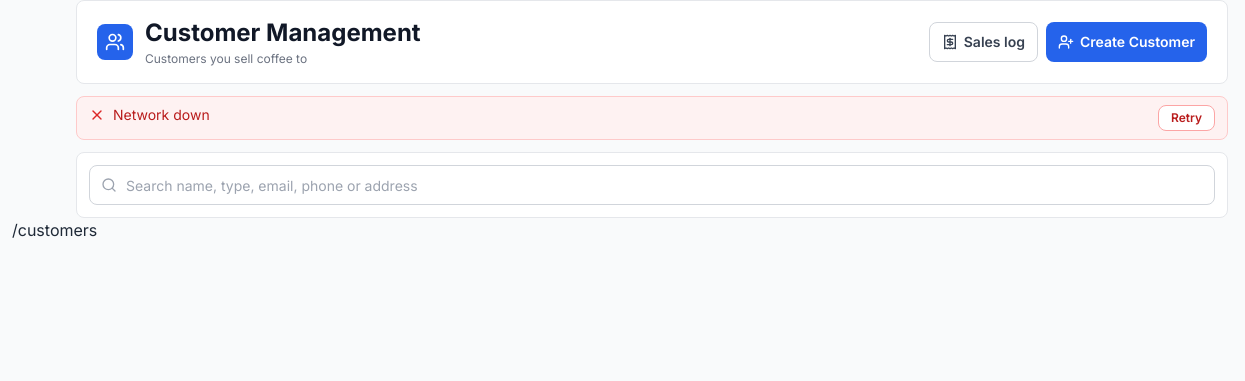
Test: CustomerManagement layout › retries a load that failed
Expected: the message shows "Network down", [113, 106, 210, 123]
Click the button "Retry": [1186, 118] box [1158, 105, 1215, 131]
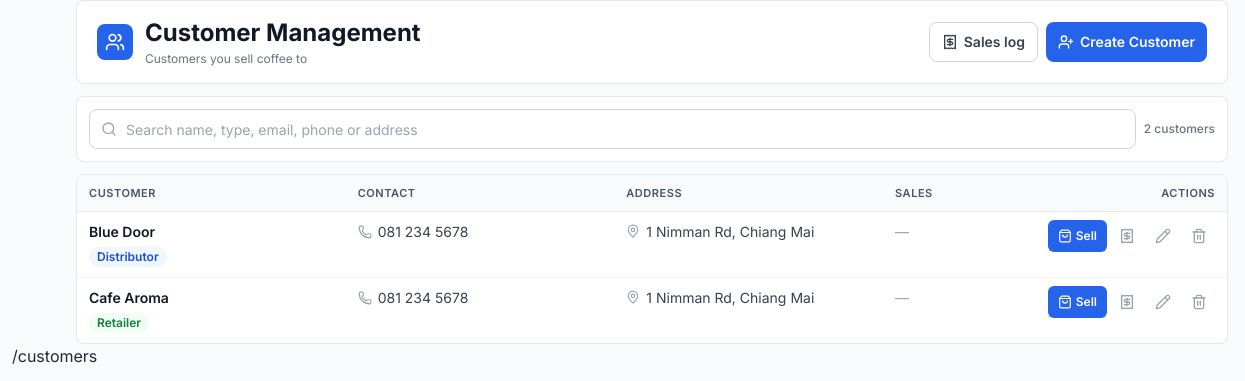
Result: the row "Blue Door" is shown at [77, 212, 1227, 278]
Result: the message "Network down Retry" is gone
